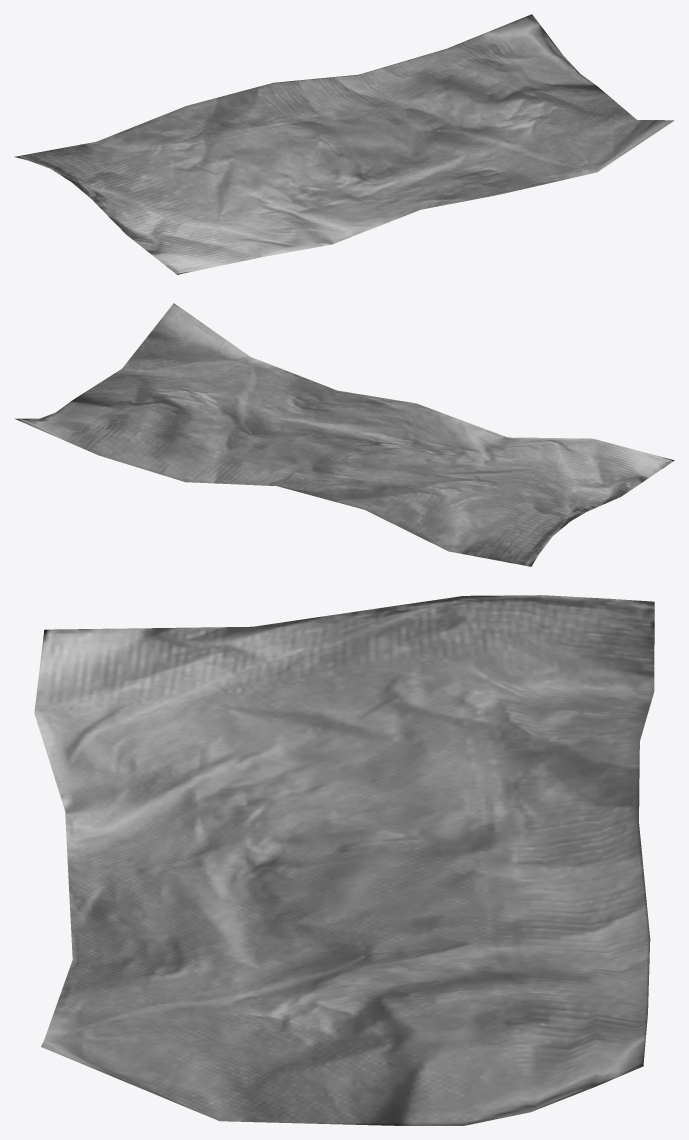
The model's file is napkin_6.fbx.
3 renders of one model, top to bottom at view 1: azimuth 30°, elevation 25°; view 2: azimuth 150°, elevation 25°; view 3: azimuth 270°, elevation 25°, orthographic. The views are drawn at different scales.
Parts seen in each view (by area): view 1: napkin_6; view 2: napkin_6; view 3: napkin_6.
Boxes of the visible parts, x1,y1,x2,y2 form: napkin_6: (14, 14, 674, 274); napkin_6: (15, 303, 674, 566); napkin_6: (34, 595, 654, 1125).
Bounding box in the file's own units: 28.57 × 2.45 × 14.79.
